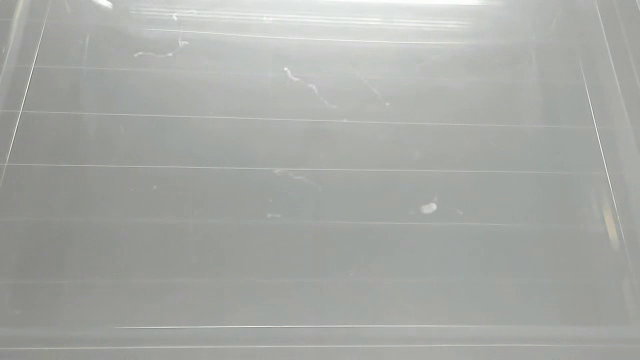alpha: (415, 199, 441, 217), (90, 1, 116, 12)
